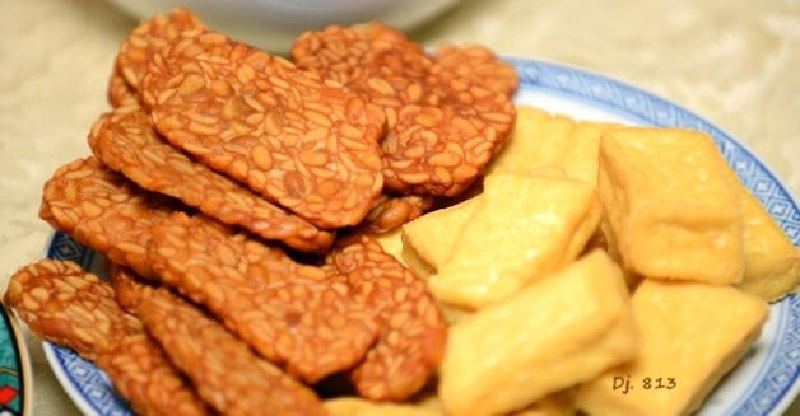Tahu: (452, 249, 637, 379), (607, 282, 773, 416), (611, 116, 746, 268), (464, 136, 596, 290)
